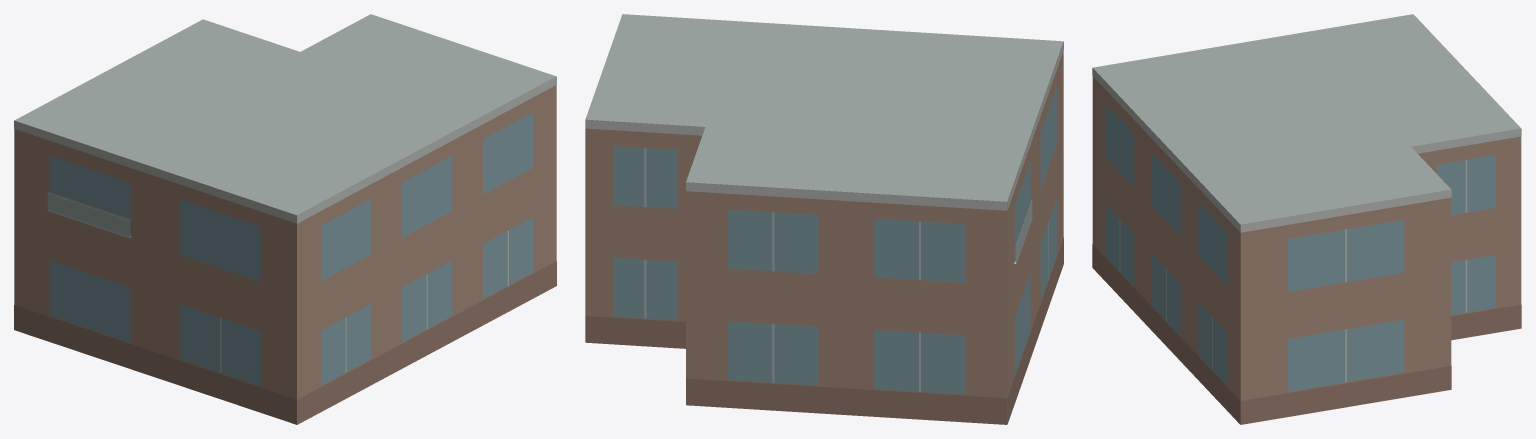
Rendered from survey-upis-32818893.glb.
The picture shows the model from 3 angles, left to right: view 1: azimuth 30°, elevation 25°; view 2: azimuth 150°, elevation 25°; view 3: azimuth 270°, elevation 25°; orthographic projection. The views are drawn at different scales.
Visible parts, largest first — view 1: survey-upis-32818893.tmp; view 2: survey-upis-32818893.tmp; view 3: survey-upis-32818893.tmp.
Part boxes in pixels (x1=…): survey-upis-32818893.tmp: x1=14, y1=14, x2=556, y2=424; survey-upis-32818893.tmp: x1=585, y1=14, x2=1063, y2=424; survey-upis-32818893.tmp: x1=1092, y1=14, x2=1521, y2=424.
Size of the model in its own units: 13.79 by 6.1 by 11.86.
